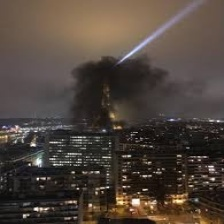smoke: (73, 52, 179, 119)
